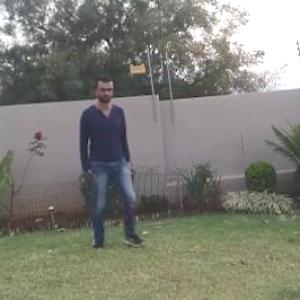follow: (78, 78, 134, 242)
